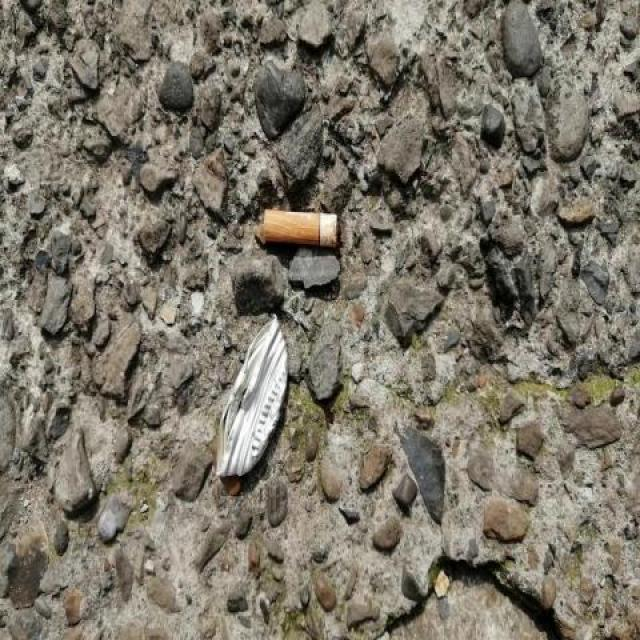non-organic waste: (254, 205, 343, 250)
